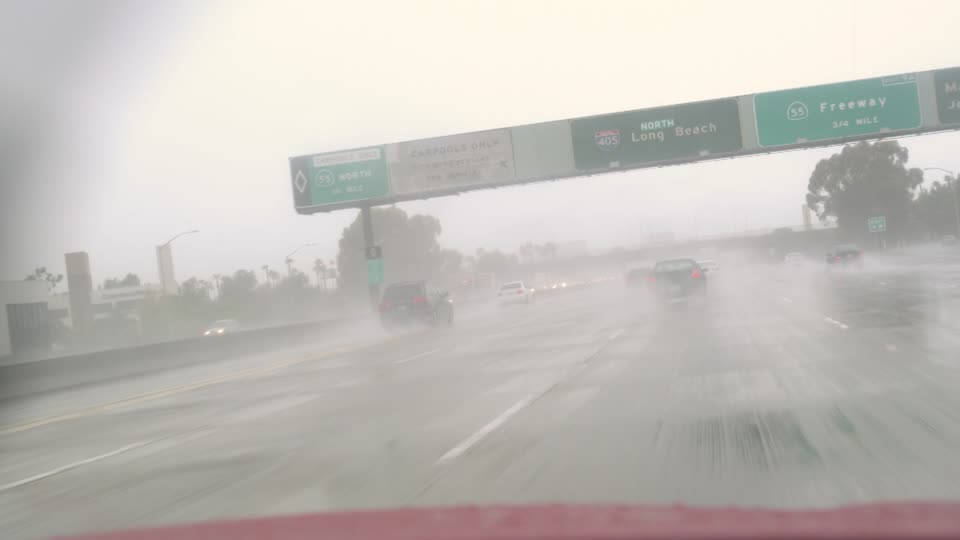car: (376, 279, 454, 330), (649, 255, 704, 300), (494, 281, 535, 306), (825, 244, 865, 267), (204, 317, 242, 338), (622, 265, 651, 285), (697, 256, 719, 274), (784, 251, 804, 267)
